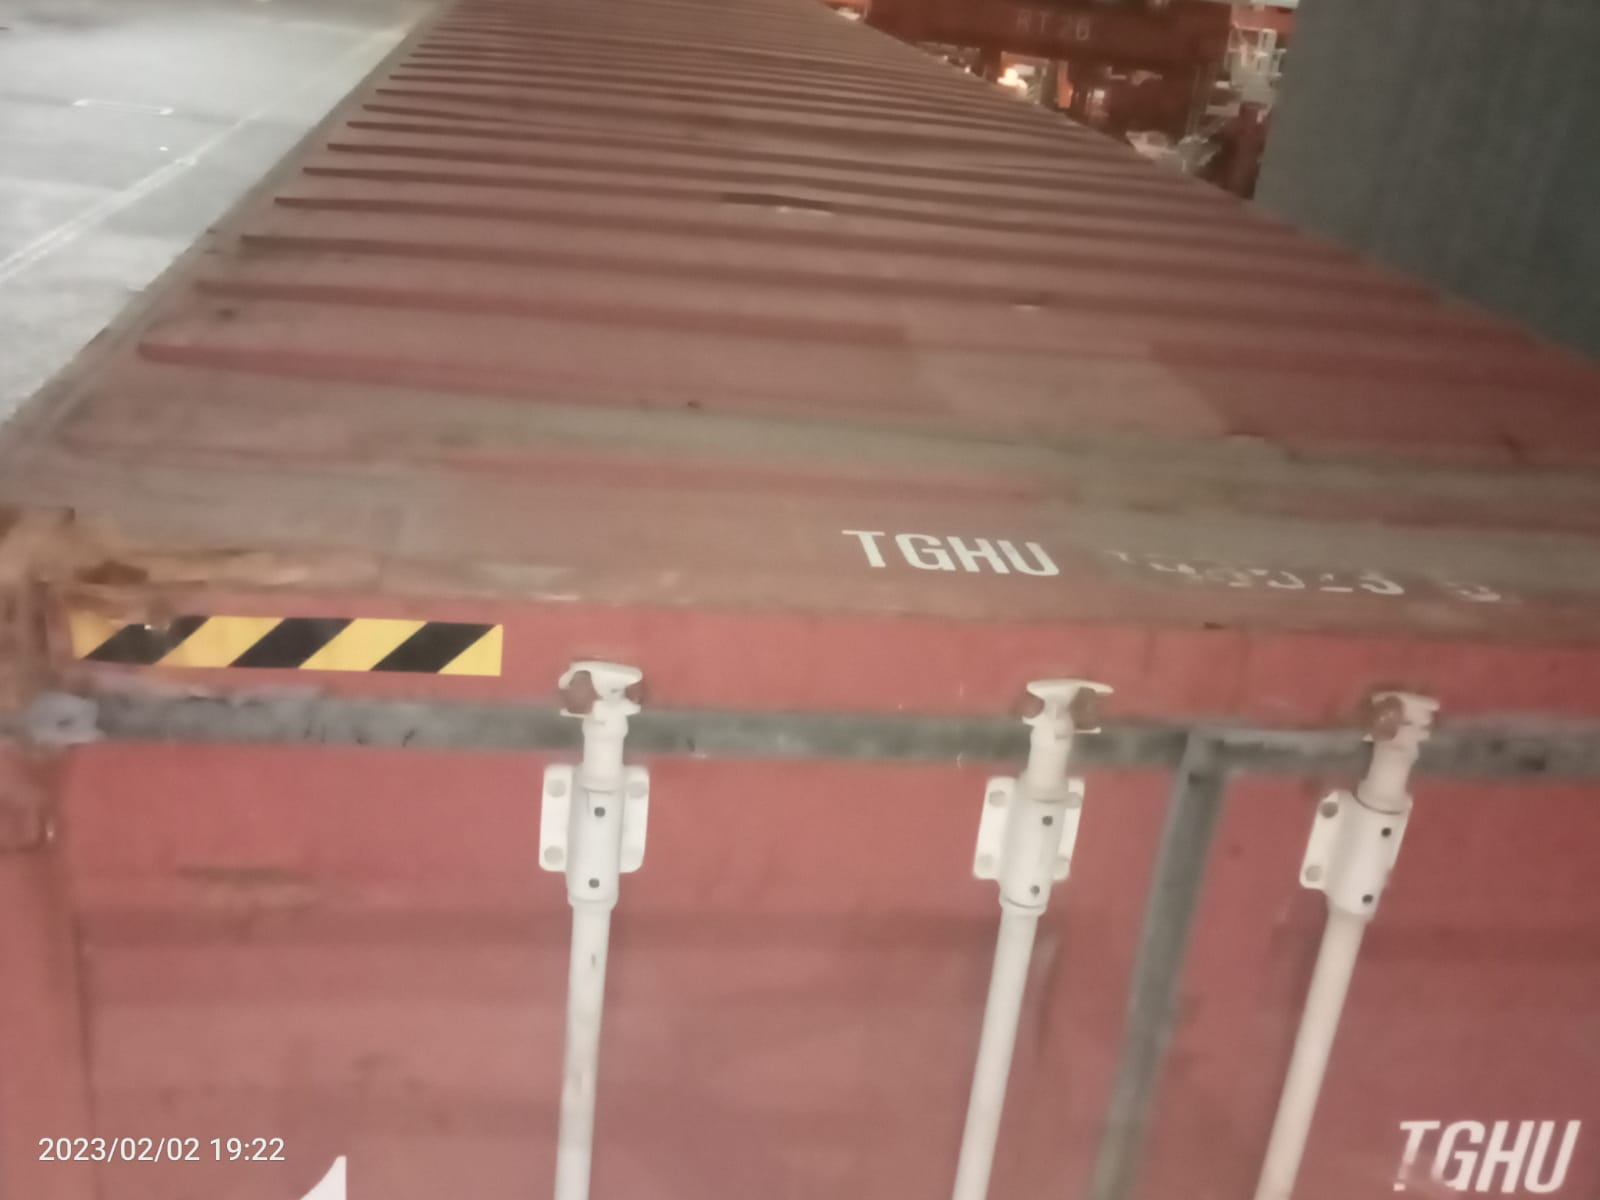rear_side: (13, 504, 1600, 1200)
top_side: (18, 37, 1587, 542)
